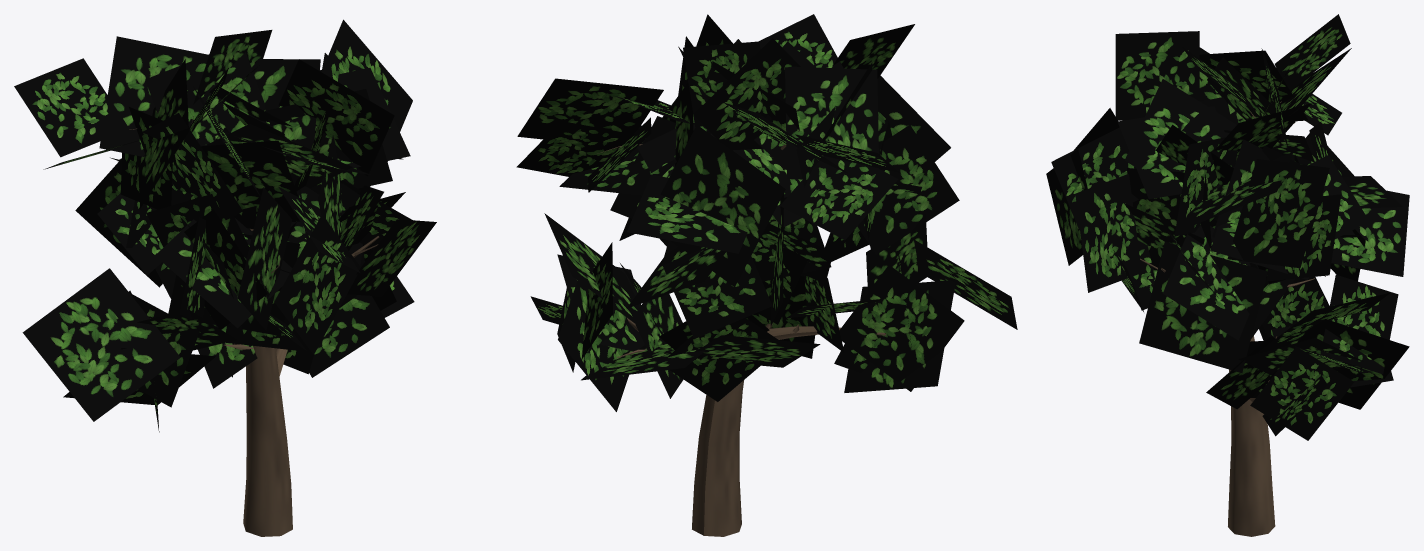
File: oak_2.glb
The picture shows the model from 3 angles, left to right: view 1: azimuth 30°, elevation 25°; view 2: azimuth 150°, elevation 25°; view 3: azimuth 270°, elevation 25°; orthographic projection. The views are drawn at different scales.
Visible parts, largest first — view 1: oak_2Leaves, oak_2Wood; view 2: oak_2Leaves, oak_2Wood; view 3: oak_2Leaves, oak_2Wood.
Boxes of the visible parts, bbox=[...] form: oak_2Leaves: bbox=[14, 19, 436, 432]; oak_2Wood: bbox=[129, 111, 379, 536]; oak_2Leaves: bbox=[516, 14, 1017, 411]; oak_2Wood: bbox=[596, 130, 885, 536]; oak_2Leaves: bbox=[1046, 14, 1409, 440]; oak_2Wood: bbox=[1140, 101, 1345, 536].
Size of what is drawn, in the model's own units: 5.13 by 5.75 by 3.98.
2 materials, 2 textured.
